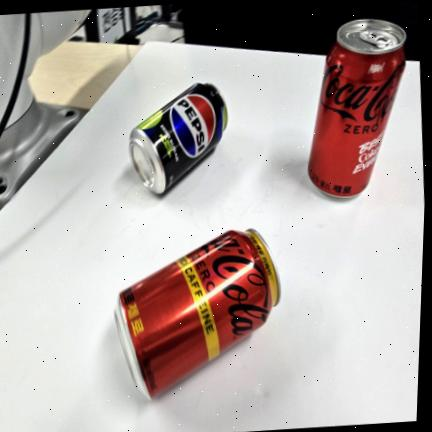can_coke_decaf: (115, 229, 279, 398)
can_coke_zero: (308, 19, 406, 197)
can_pepsi_zero: (129, 83, 227, 193)
